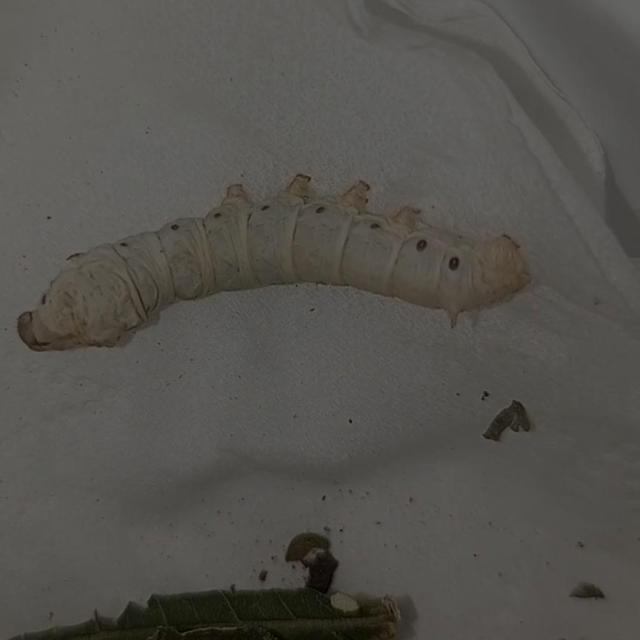Healthy: (14, 147, 556, 405)
